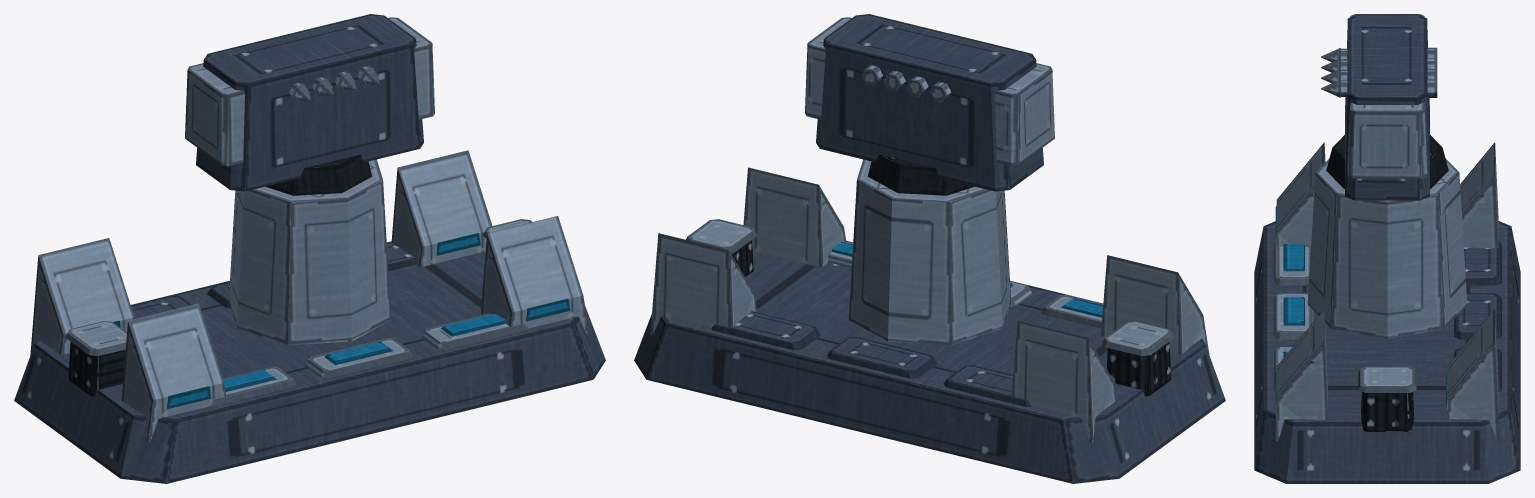
Rendered from building-sam.fbx.
The picture shows the model from 3 angles, left to right: view 1: azimuth 30°, elevation 25°; view 2: azimuth 150°, elevation 25°; view 3: azimuth 270°, elevation 25°; orthographic projection. The views are drawn at different scales.
Parts seen in each view (by area): view 1: building-sam; view 2: building-sam; view 3: building-sam.
Part boxes in pixels (x1,y1,x2,y2): building-sam: (14, 14, 605, 483); building-sam: (634, 14, 1225, 483); building-sam: (1254, 14, 1520, 483).
Size of the model in its own units: 1456 by 950 by 728.
1 material, 1 textured.
